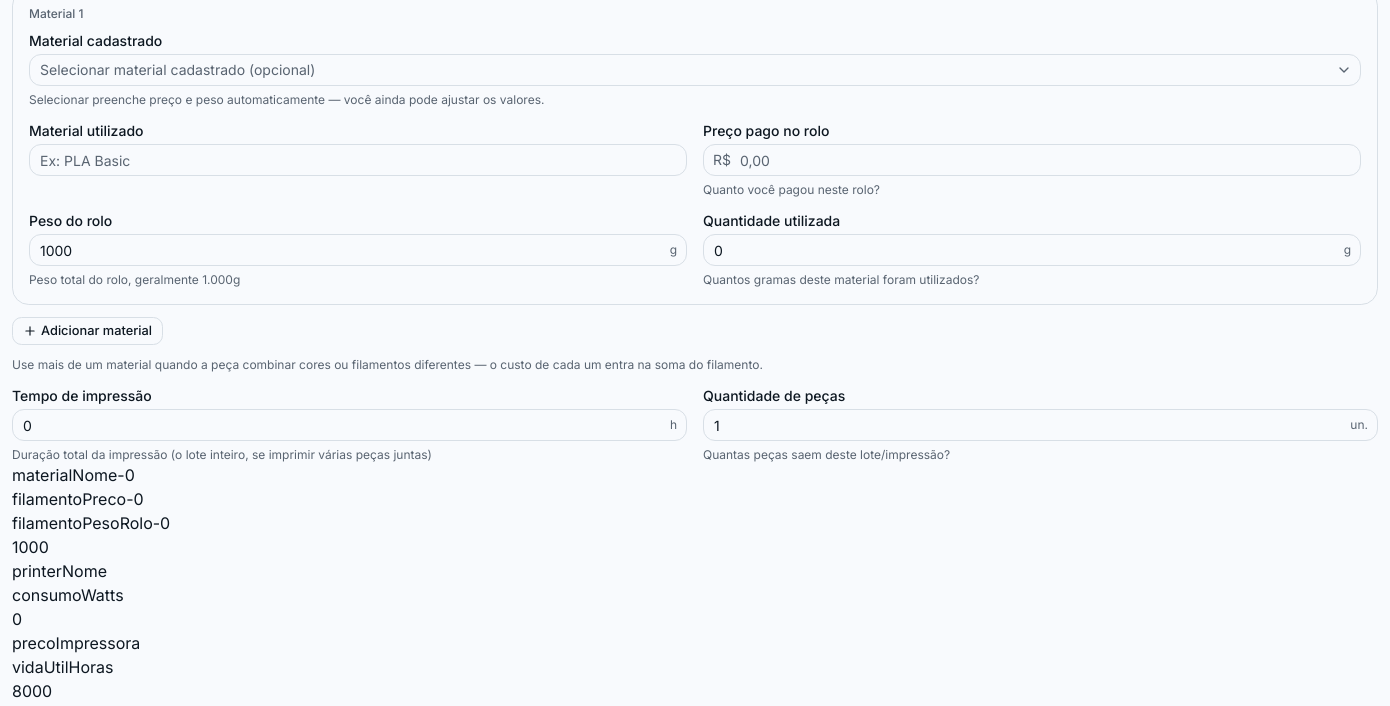
it: Integração calculadora ↔ cadastros › permite adicionar um segundo material e selecioná-lo independente do primeiro
The width and height of the screenshot is (1390, 706).
Click the dropdown labelled "material cadastrado". click: (178, 70)
box: [29, 54, 1361, 86]
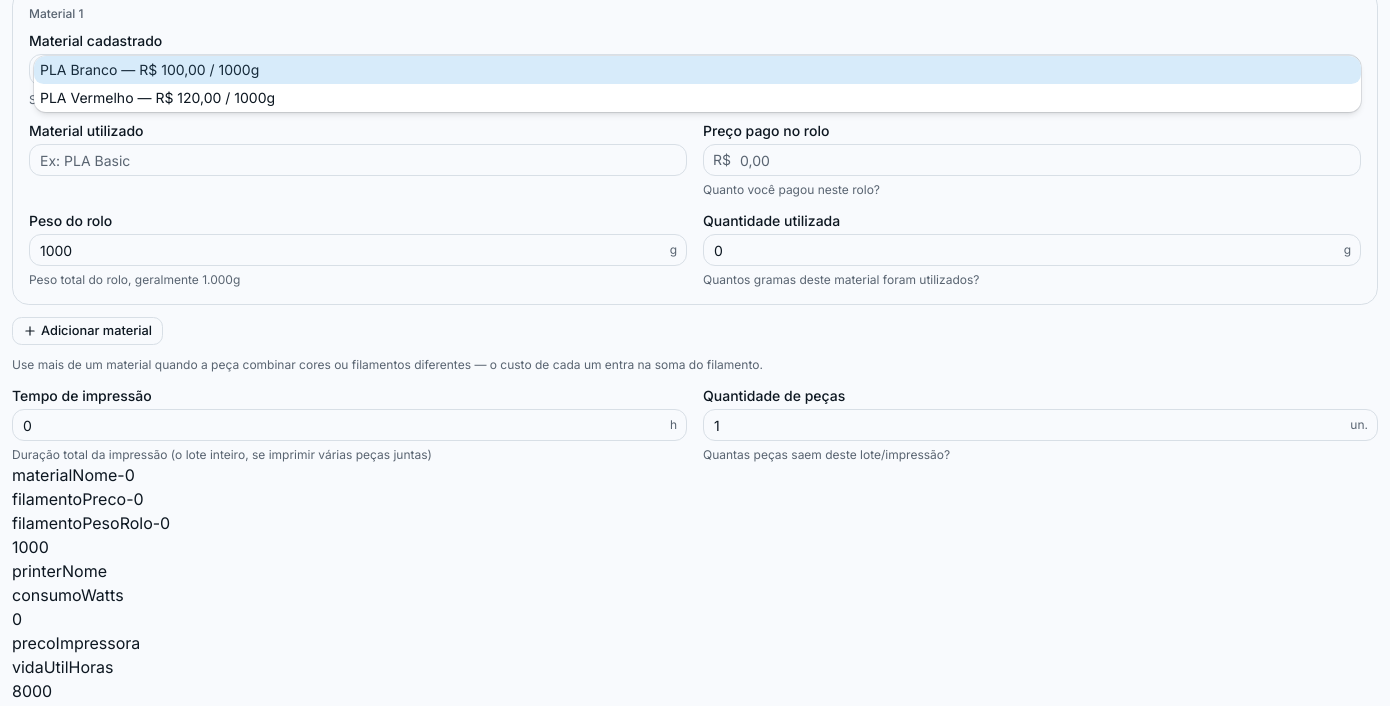
Click the option "PLA Branco — R$ 100,00 / 1000g". click: (79, 70)
box: [34, 56, 1361, 84]
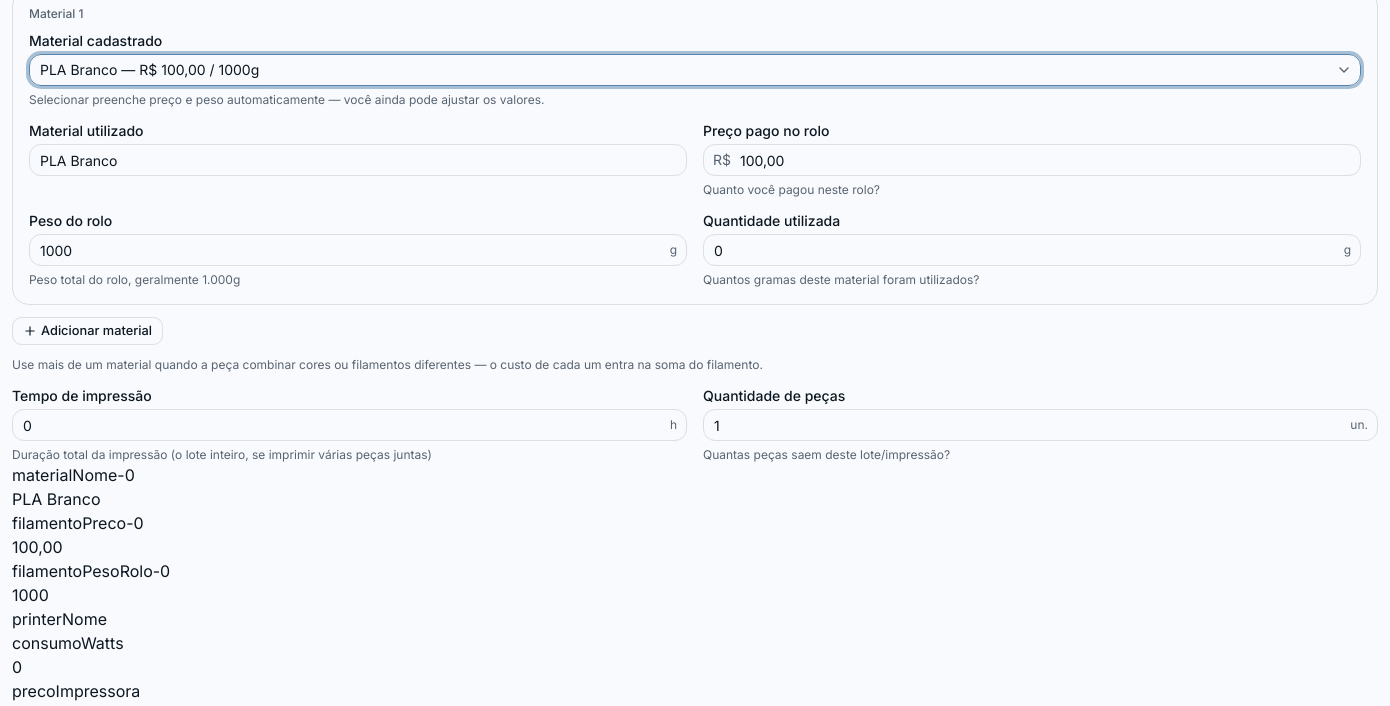
Click the button "Adicionar material". click: (87, 331)
box: [12, 317, 163, 345]
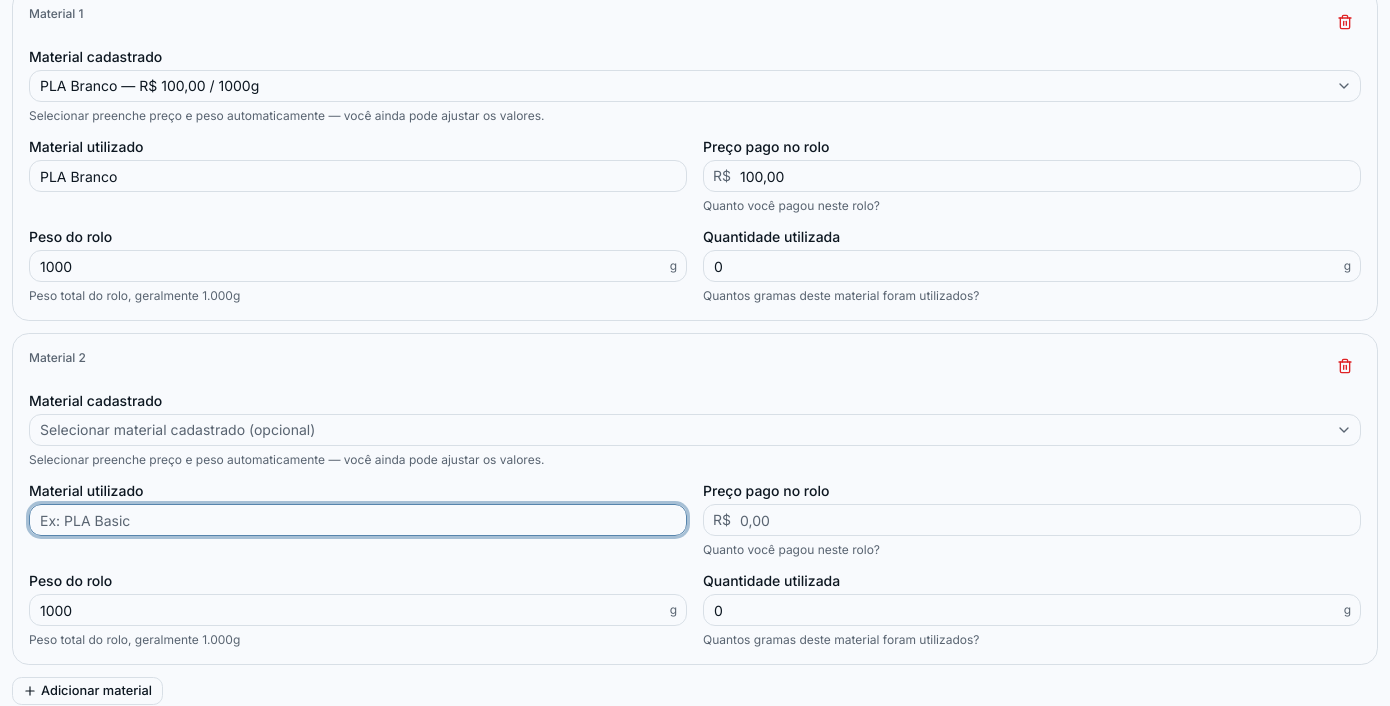
Expected: the number of dropdowns named "Material cadastrado" is 2
Click the dropdown labelled "material cadastrado". click: (178, 430)
box: [29, 414, 1361, 446]
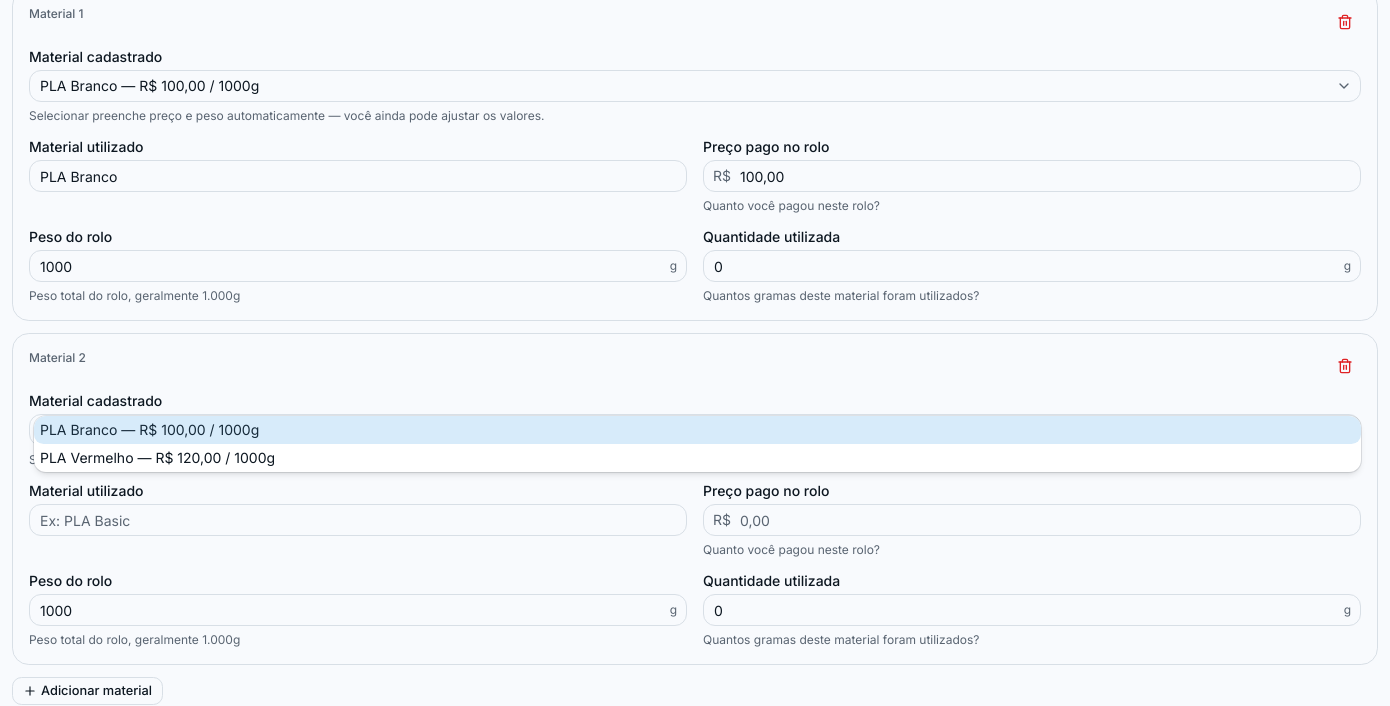
Click the option "PLA Vermelho — R$ 120,00 / 1000g". click: (158, 458)
box: [40, 449, 275, 466]
(page scrolled)
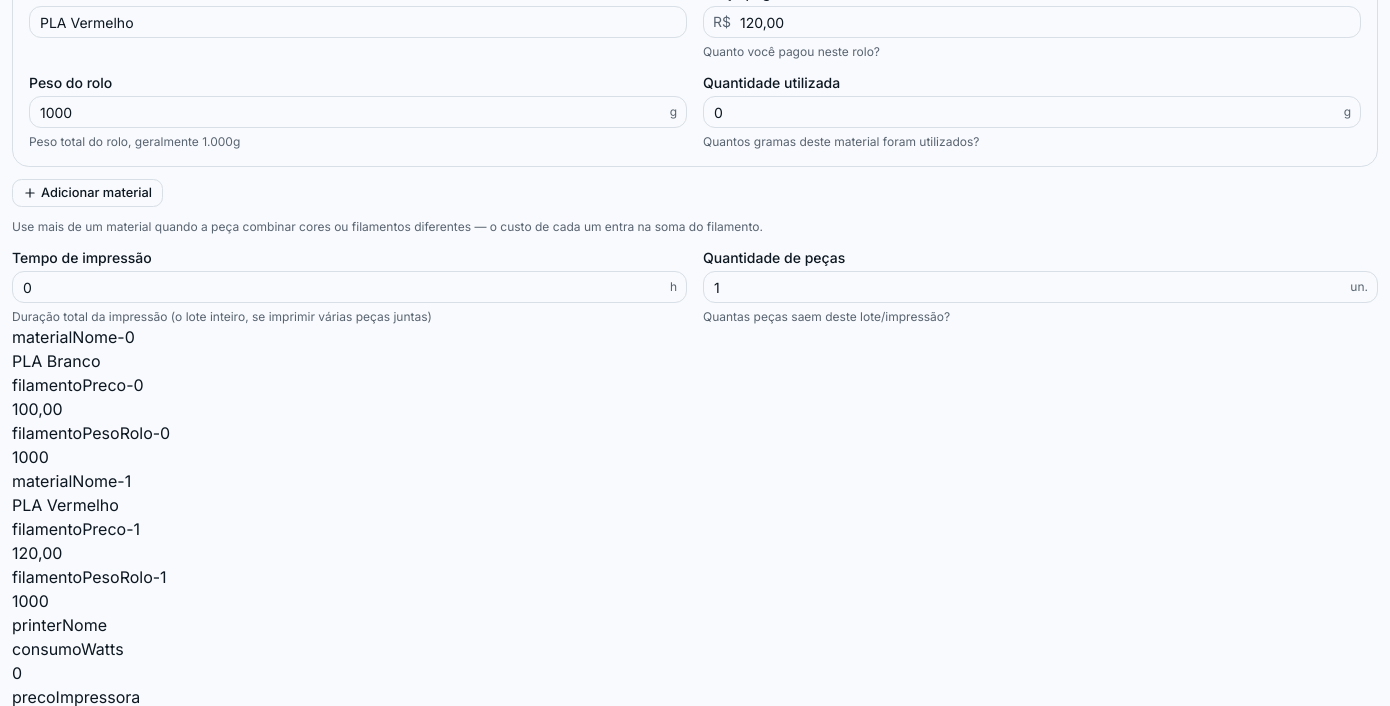
Expected: the text with test id "materialNome-0" reads "PLA Branco", [12, 351, 100, 371]
Expected: the text with test id "materialNome-1" reads "PLA Vermelho", [12, 495, 119, 515]
Expected: the text with test id "filamentoPreco-1" reads "120,00", [12, 543, 62, 563]
